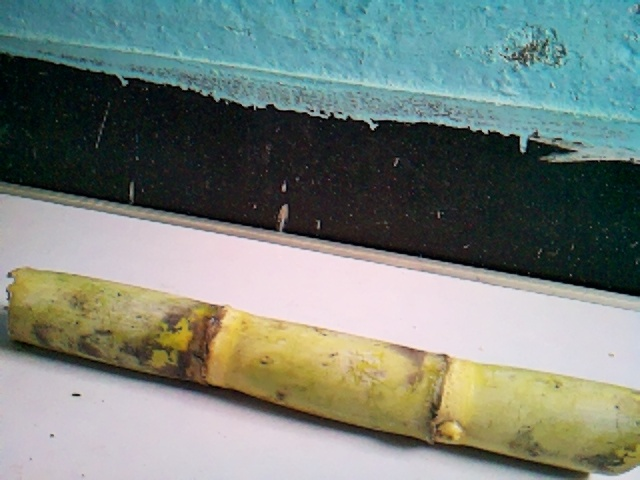Good Sugarcane: (7, 266, 640, 474)
Node: (403, 340, 480, 450), (180, 294, 242, 393)
